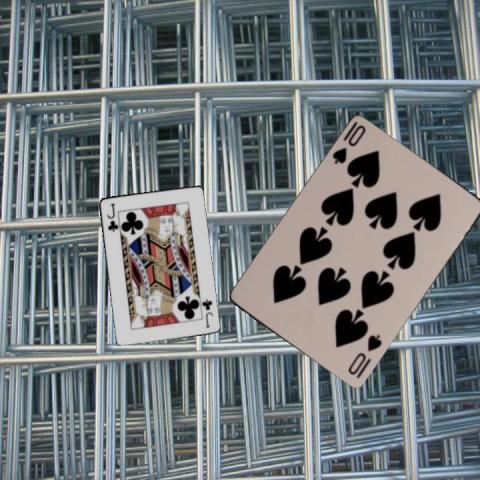10s: (345, 332, 383, 377), (329, 122, 367, 166)
Jc: (199, 296, 214, 329), (104, 200, 118, 233)
